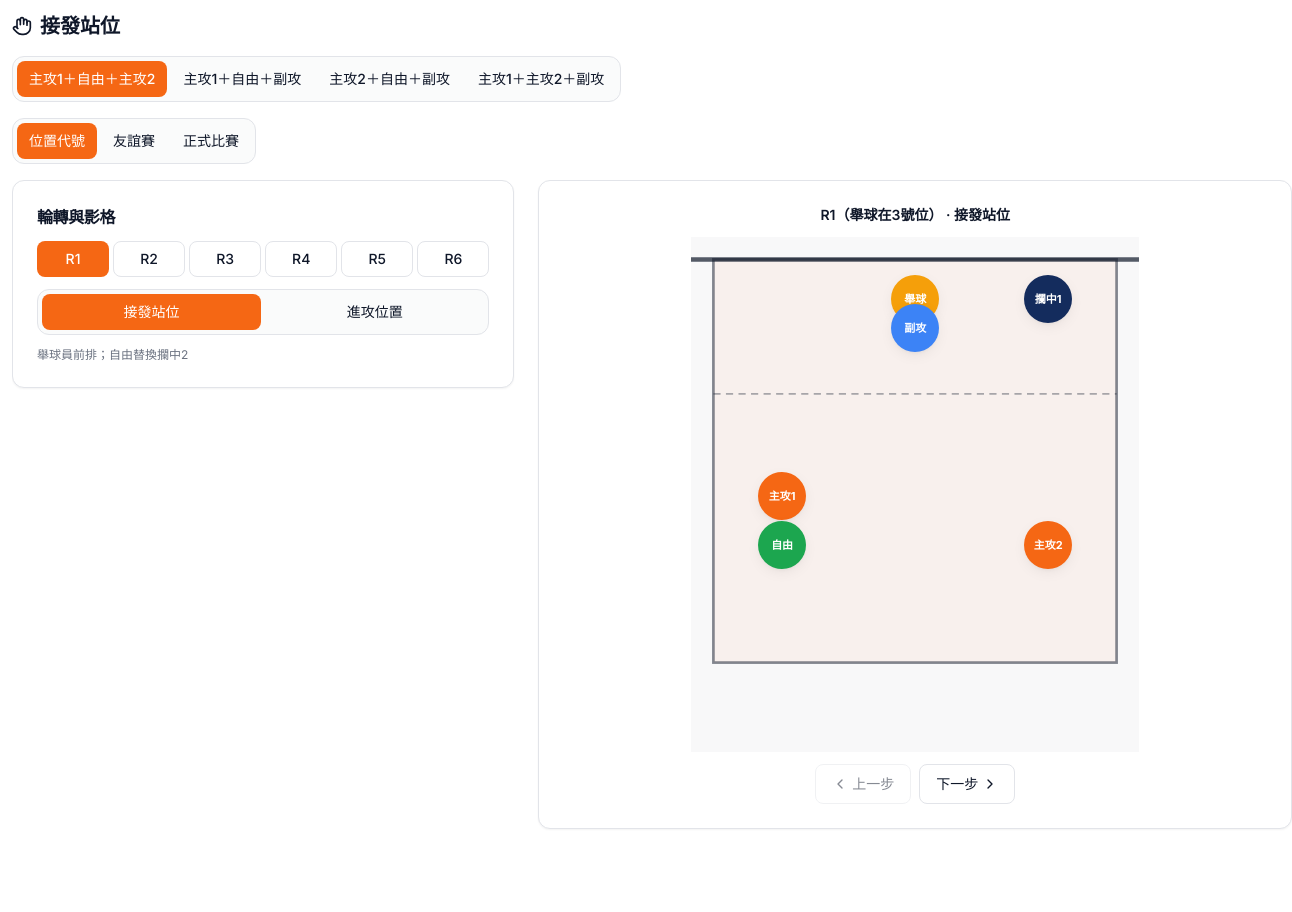
Test case: 接發站位頁 › 切到 R3：攔中1 由自由替換、改顯示攔中2
Click the button "R3".
click(225, 259)  # box [189, 241, 261, 277]
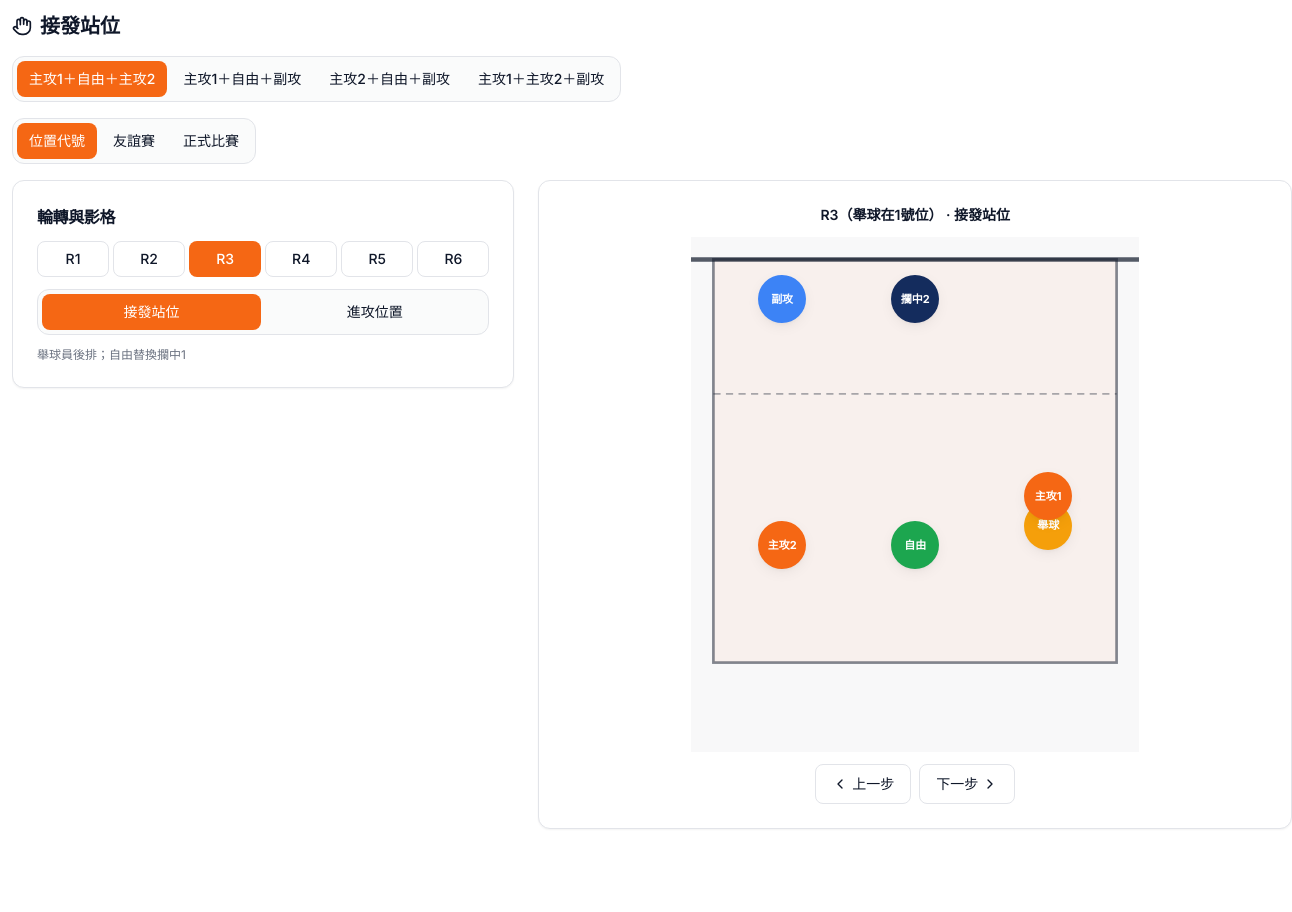
Expected: the button "攔中2" is shown, [891, 275, 939, 323]
